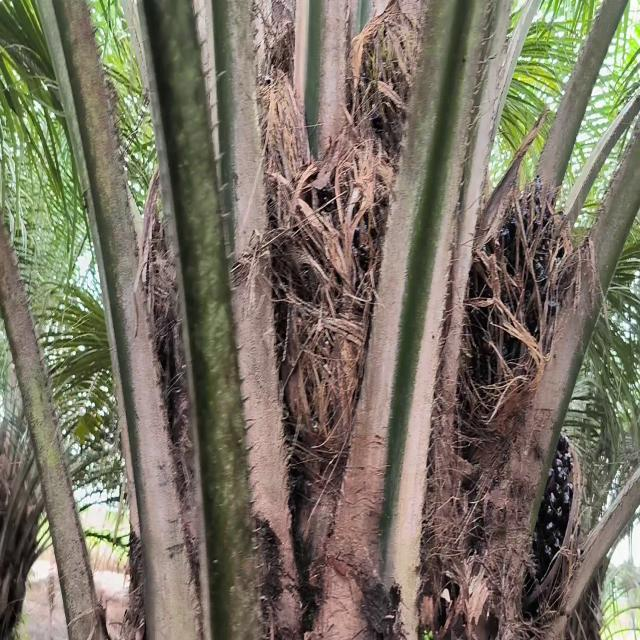palm-oil: (459, 178, 580, 441), (532, 432, 585, 628)
